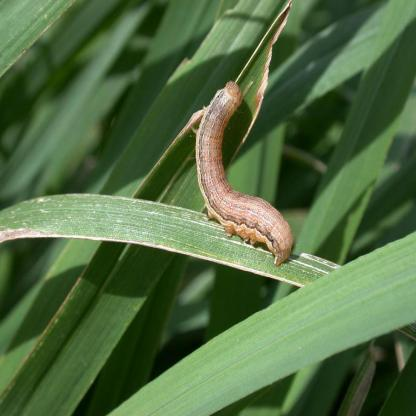armyworm: (196, 81, 297, 272)
